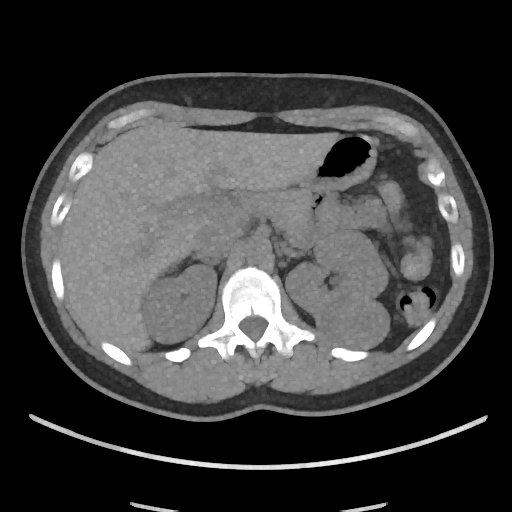Lesion: (310, 287, 392, 359)
